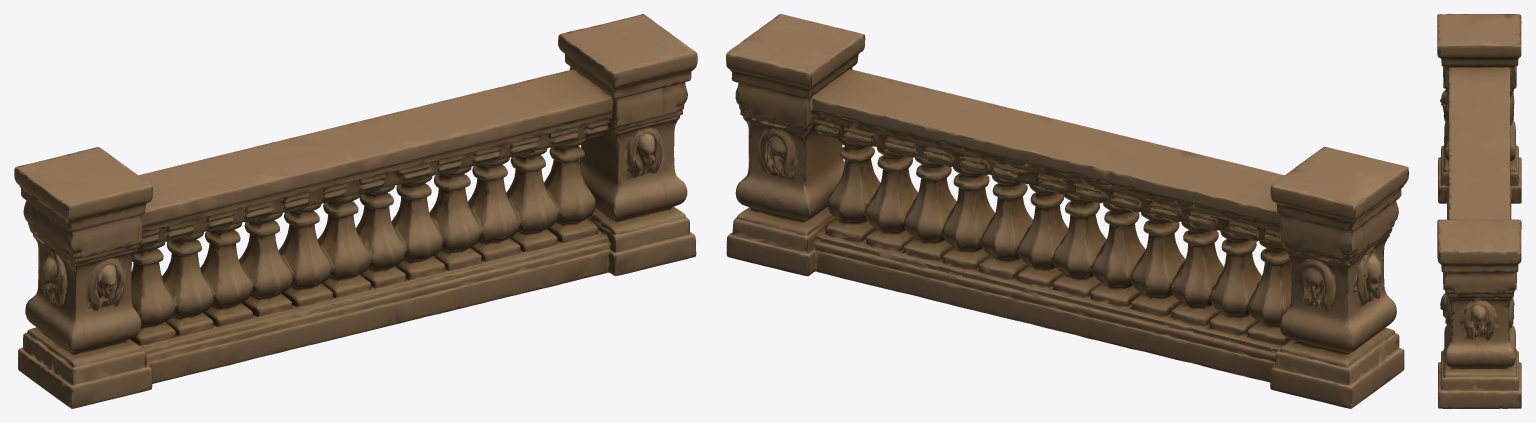
The model's file is stone-balustrade-elephant-head-line-art-optimized.glb.
3 renders of one model, left to right at view 1: azimuth 30°, elevation 25°; view 2: azimuth 150°, elevation 25°; view 3: azimuth 270°, elevation 25°, orthographic. The views are drawn at different scales.
Parts seen in each view (by area): view 1: world; view 2: world; view 3: world.
Part boxes in pixels (x1,y1,x2,y2): world: (14,14,697,408); world: (726,14,1408,408); world: (1437,14,1521,408).
Bounding box in the file's own units: 2 × 0.6215 × 0.3007.
1 material, 1 textured.
